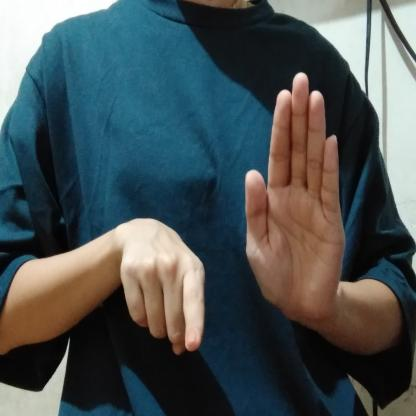stop: (116, 68, 354, 368)
